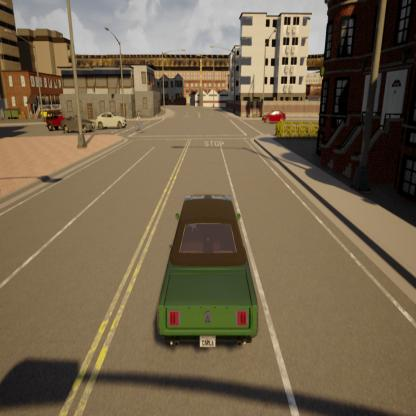Cars: (142, 182, 263, 358), (95, 106, 128, 134), (61, 113, 97, 135), (43, 111, 70, 133), (262, 108, 289, 127)
Pedestrian: (135, 108, 145, 132)
